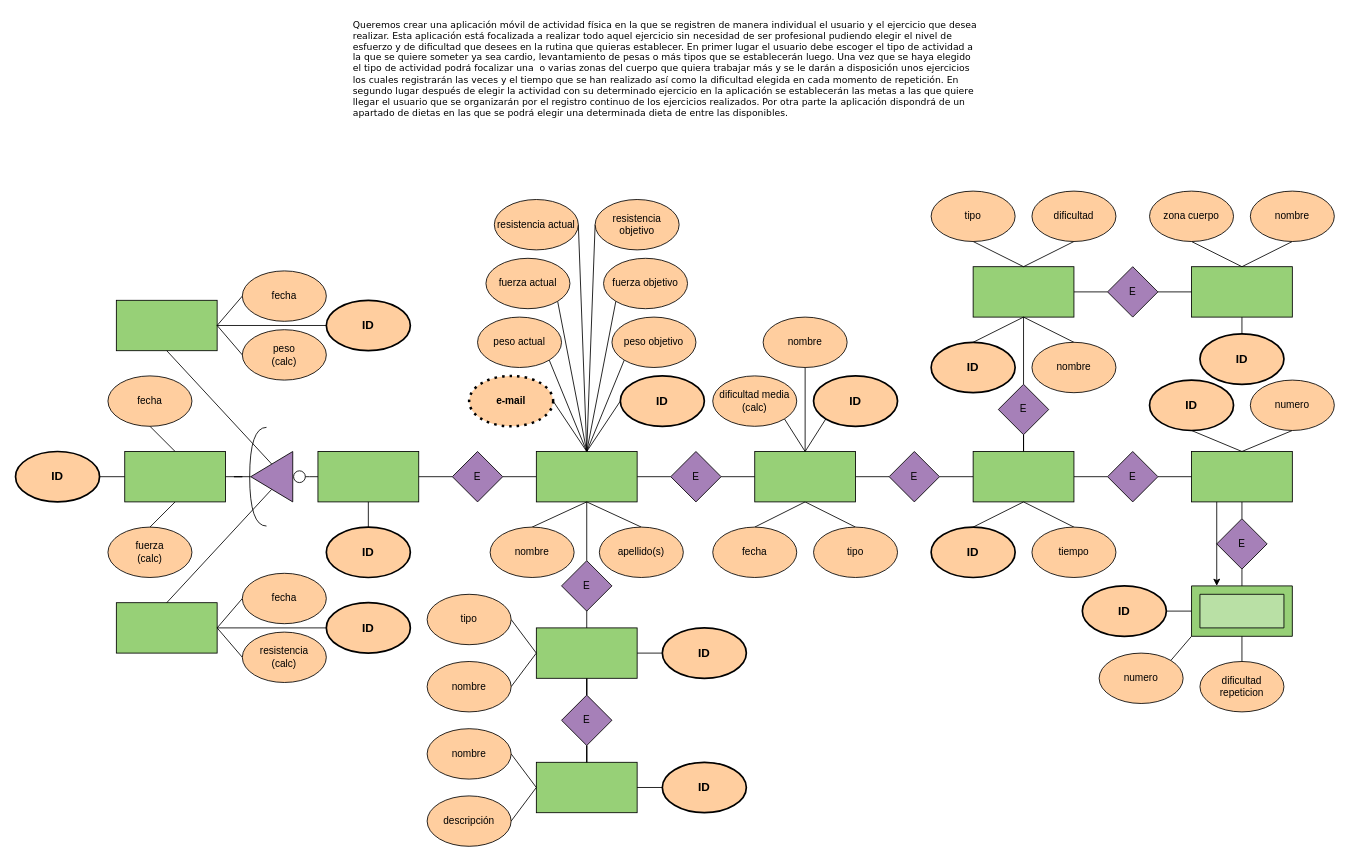
Image size: 1349x861. Some labels were removed from this diagram. The shapes that lost their labels are listed below. From the top down, each one's centre as x and y in pixels, then its label:
(1023,291): Ejercicio
(1241,291): Musculo
(166,325): Peso
(175,476): Fuerza
(368,476): Registro
(586,476): Usuario
(805,476): Rutina
(1023,476): Detalle Rutina
(1241,476): Serie
(166,627): Resistencia
(1241,610): Repeticion
(586,652): Dietas
(586,787): Recetas
